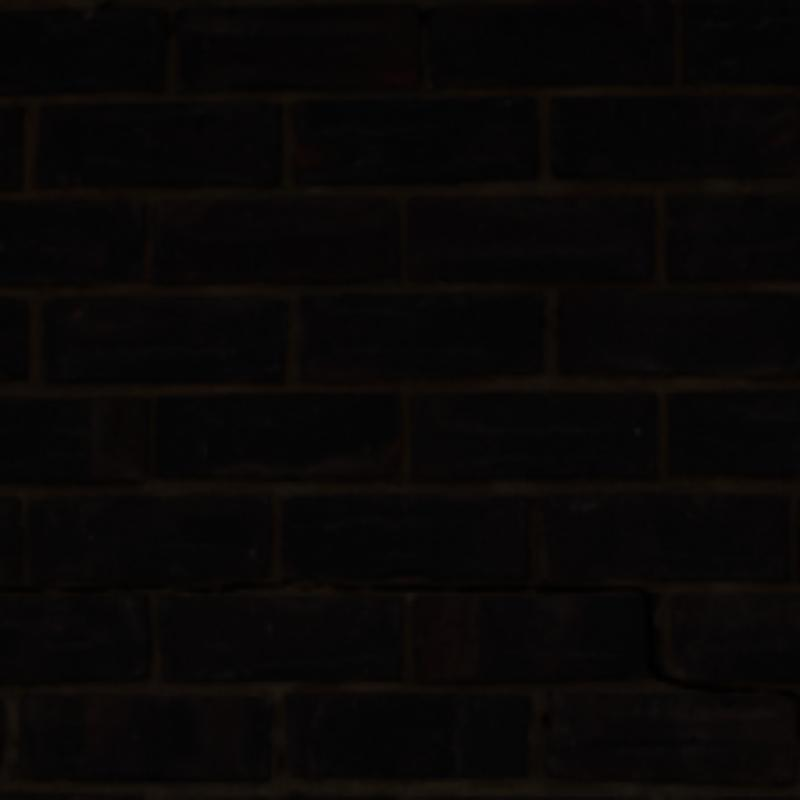crack: (252, 579, 796, 700), (0, 582, 191, 587)
